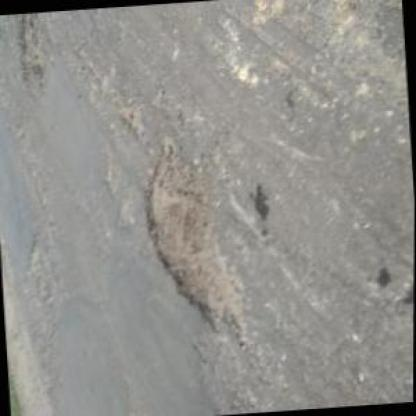pothole: (137, 139, 251, 348), (14, 12, 54, 94), (25, 236, 53, 306)
